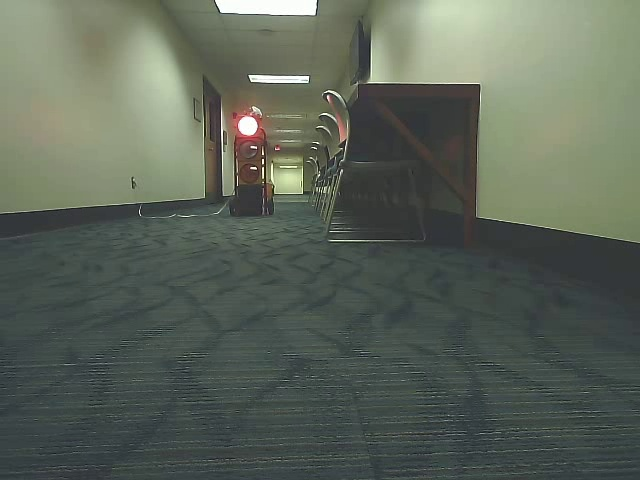red: (235, 115, 264, 185)
